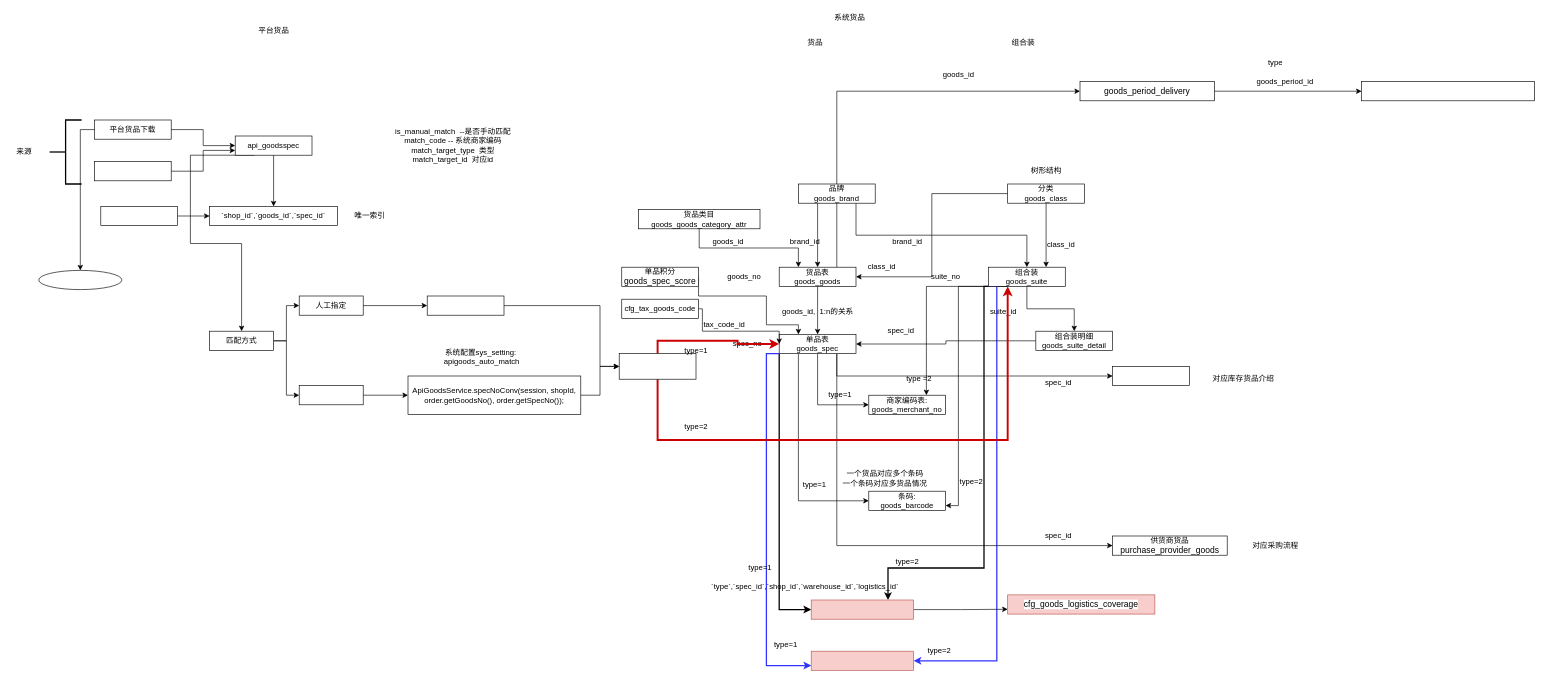
Image size: 1546x682. Some labels were removed from this diagram. Here are the shapes that lost their labels. From the top down, the centre of each, then its label:
(x=1447, y=91): goods_period_delivery_detail
(x=132, y=171): 原始单下载生成
(x=139, y=216): 店铺 sys_shop
(x=80, y=280): 开始
(x=465, y=305): is_manual_match = 1
(x=657, y=366): match_target_type match_target_id
(x=1150, y=376): 库存货品 stock_spec
(x=331, y=395): 动态绑定
(x=862, y=609): cfg_goods_logistics
(x=862, y=660): cfg_goods_warehouse
